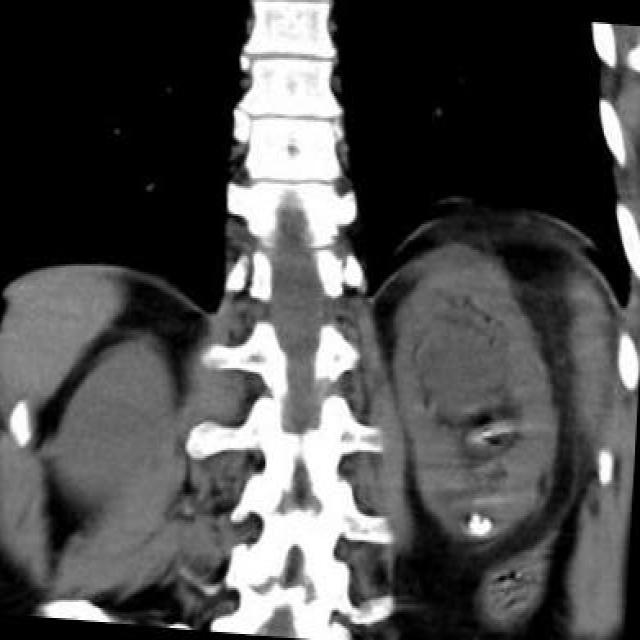Tas_Var: (462, 517, 493, 537), (470, 513, 480, 523)
